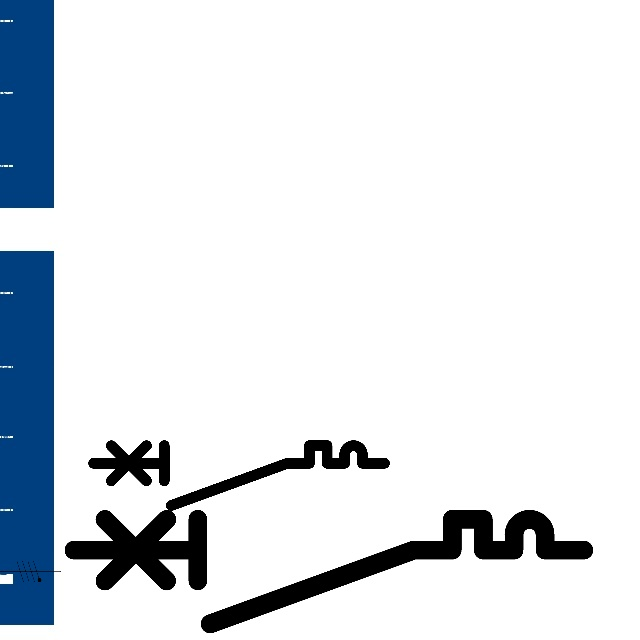interruptor_termomagnetico: (60, 506, 596, 637), (86, 438, 392, 513)
